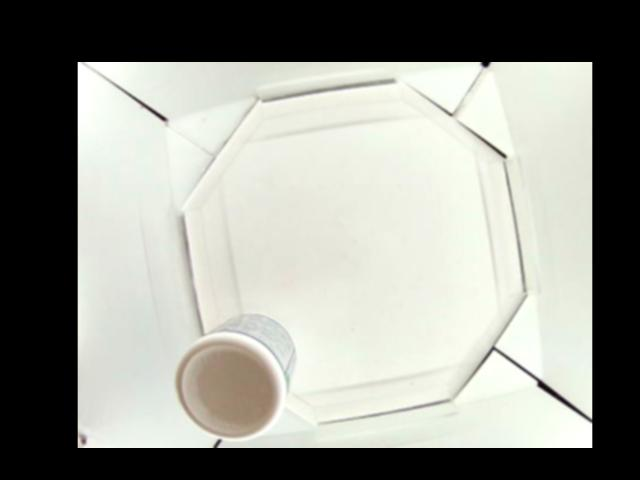Bottle: (176, 310, 297, 439)
